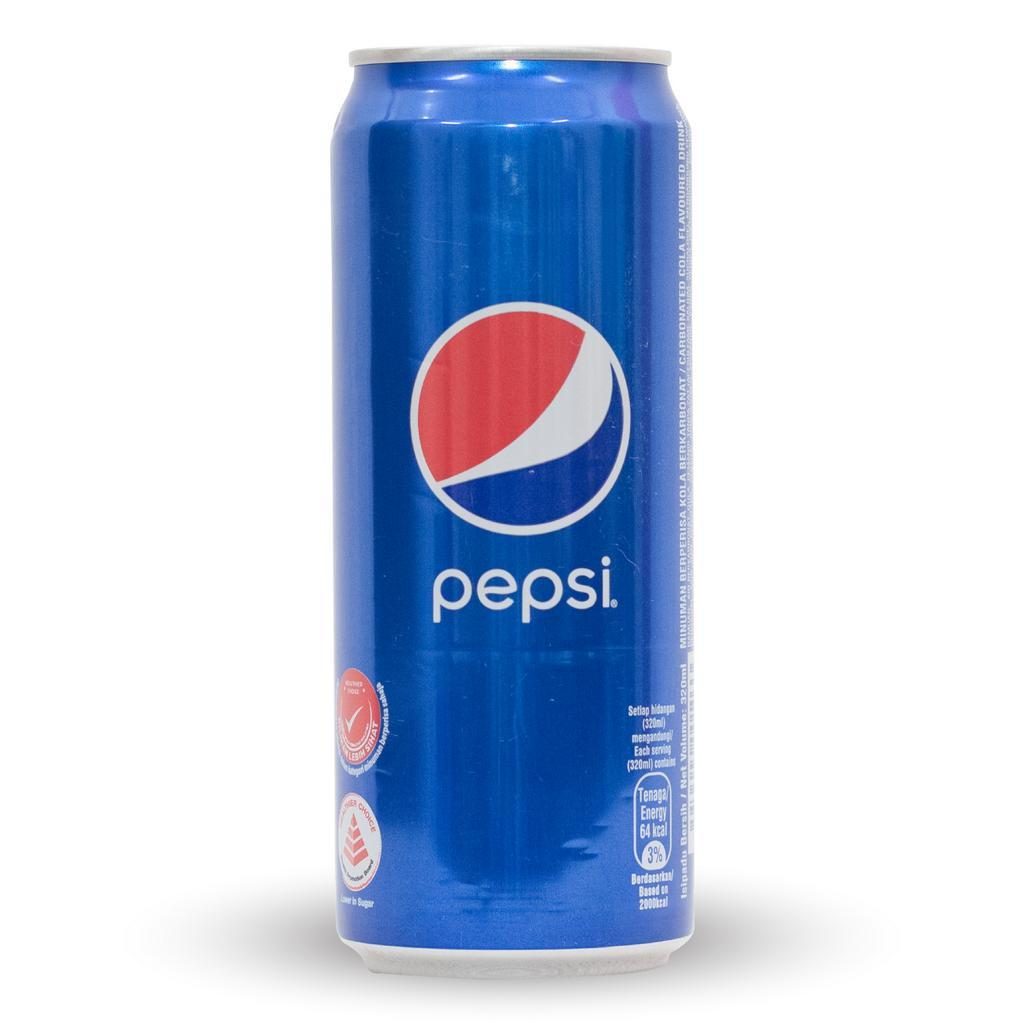can: (332, 49, 693, 976)
